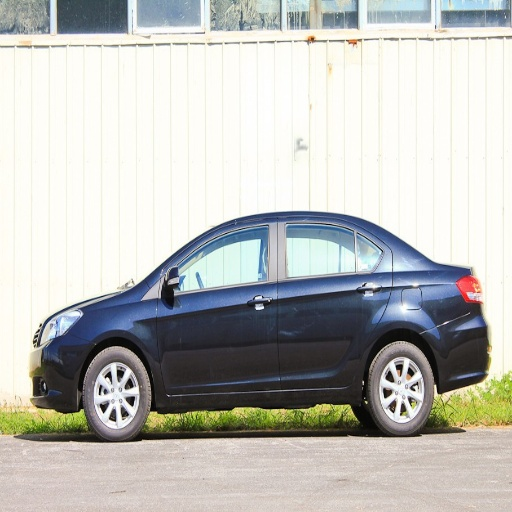back_left_door: (279, 218, 390, 387)
front_left_door: (157, 218, 280, 395)
